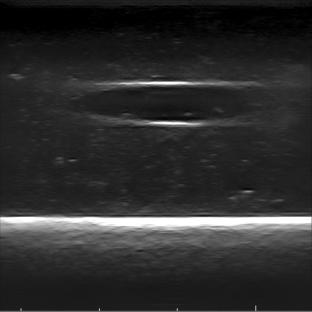vessel: (82, 80, 247, 128)
